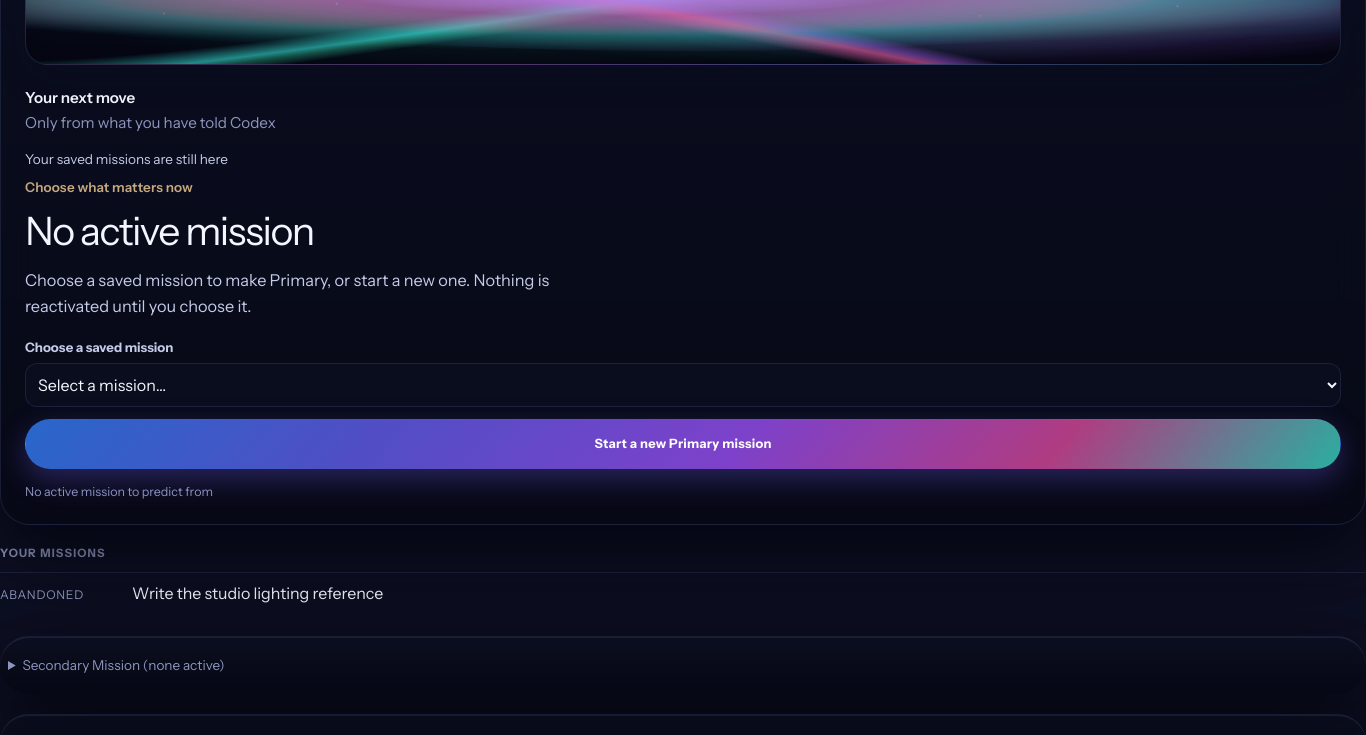
Test case: MissionTab inactive mission recovery › saves a missing finish line before offering explicit promotion
(page scrolled)
Step 1. Select "Write the studio lighting reference — Abandoned" in the dropdown labelled "Choose a saved mission" → (683, 385), box left=25, top=363, right=1341, bottom=407
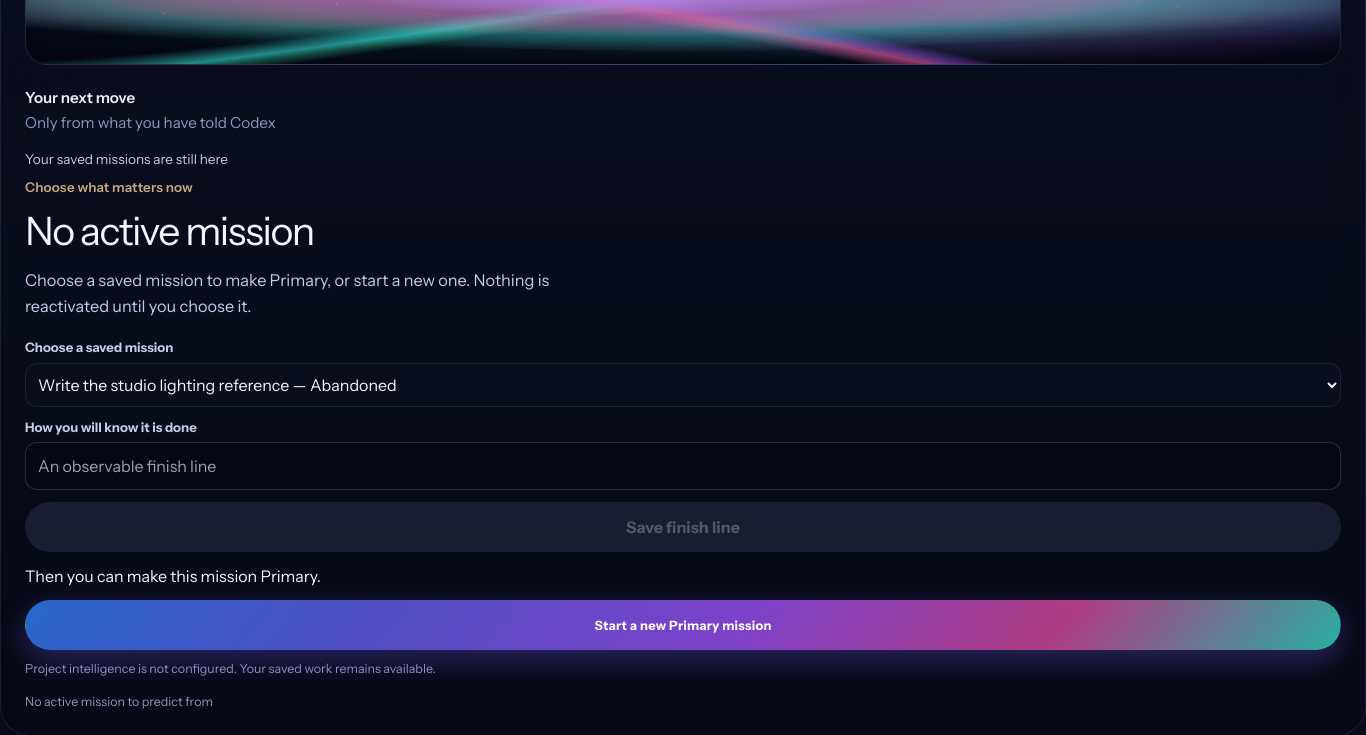
Step 2. Type "The reference is published" into the field labelled "How you will know it is done" → (683, 466), box left=25, top=442, right=1341, bottom=490
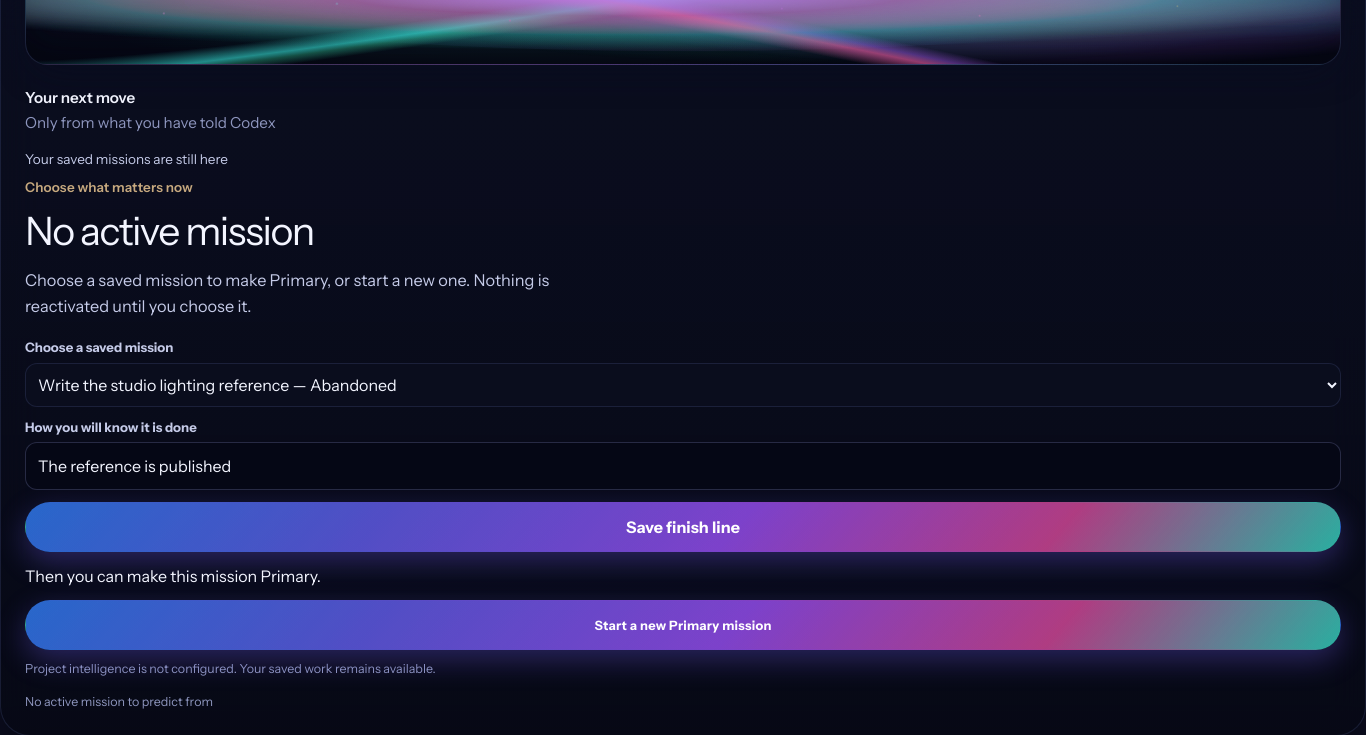
Expected: the button "Make this Primary" is not shown
Step 3. Click the button "Save finish line" → (683, 527), box left=25, top=502, right=1341, bottom=552
(page scrolled)
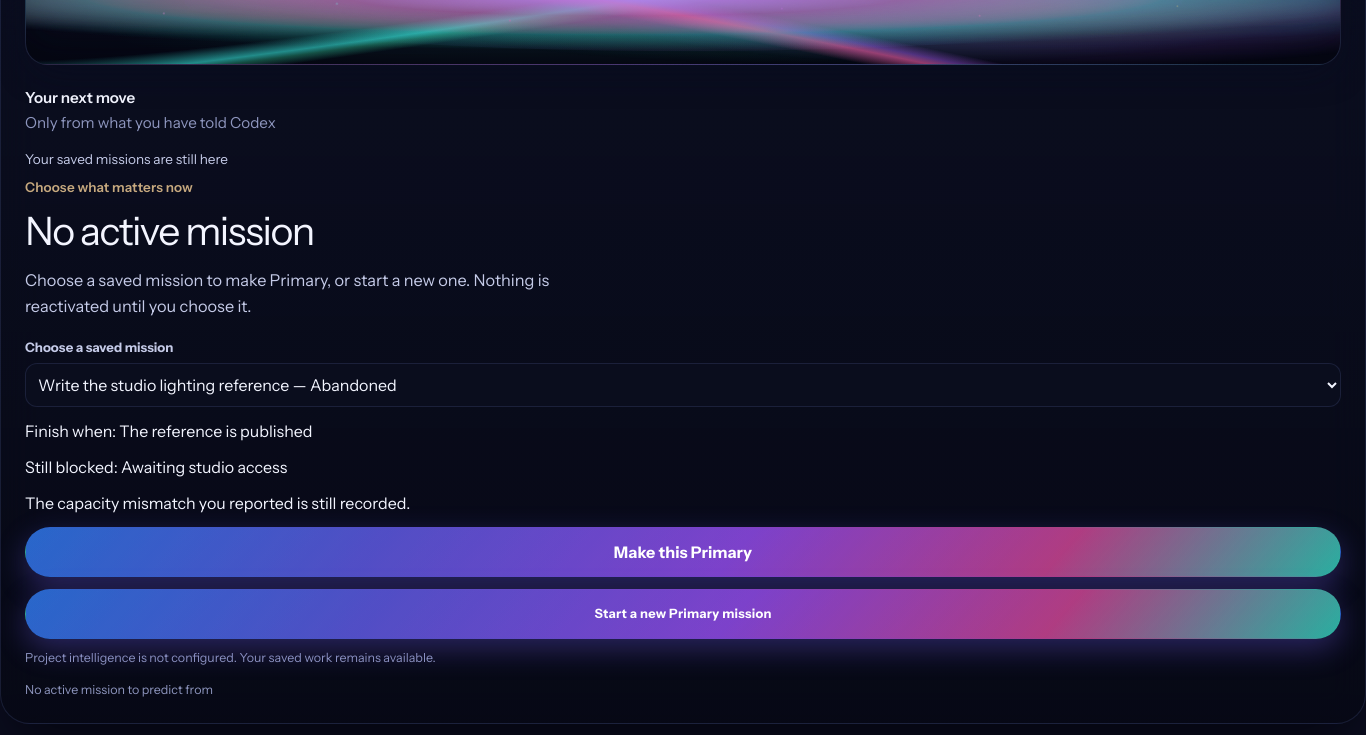
Expected: the button "Make this Primary" is shown, left=25, top=527, right=1341, bottom=577
